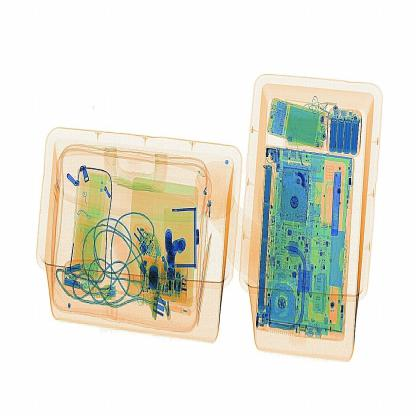pliers: (331, 170, 345, 238)
